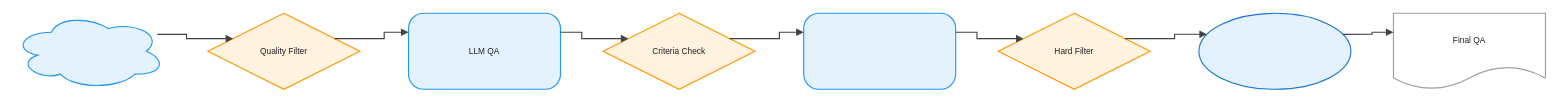
The diagram is 1560 pixels wide and 103 high, and some of its shapes have lost their labels. Each missing label, with the centre of its shape:
Human Review: point 1274,51
Knowledge Text: point 89,51
RAG Verify: point 879,51
